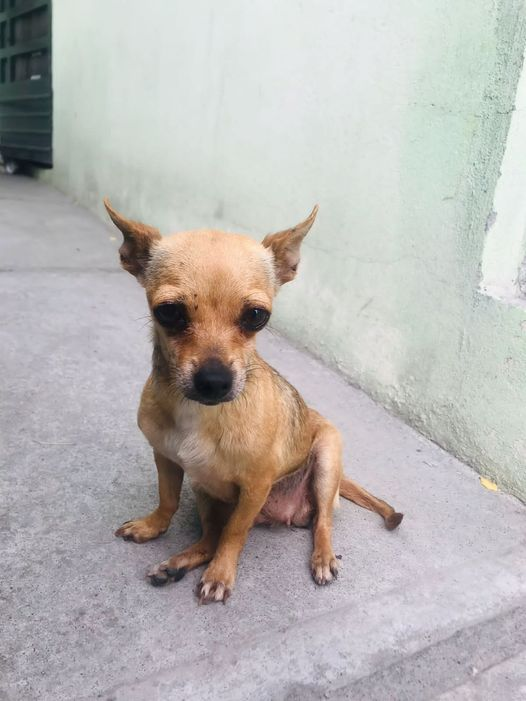dog: (92, 189, 413, 618)
